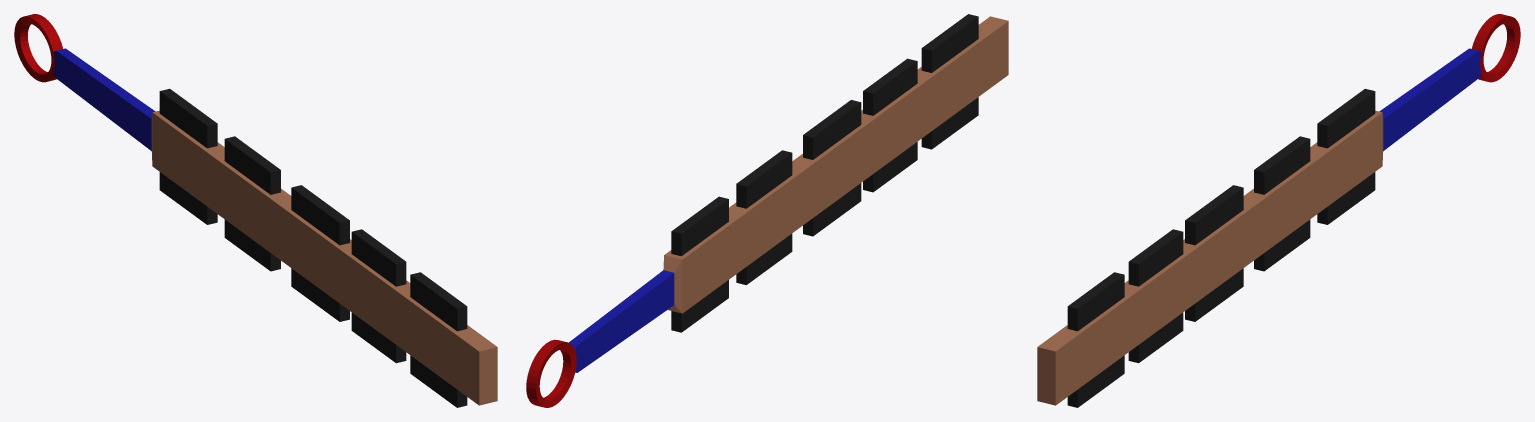
Rendered from arma.fbx.
3 views of the same model, side by side, from view 1: azimuth 30°, elevation 25°; view 2: azimuth 150°, elevation 25°; view 3: azimuth 330°, elevation 25° (orthographic).
Parts seen in each view (by area): view 1: Circle.126; view 2: Circle.126; view 3: Circle.126.
Part boxes in pixels (left/top/right/bottom): Circle.126: left=14, top=14, right=497, bottom=407; Circle.126: left=526, top=14, right=1008, bottom=407; Circle.126: left=1037, top=14, right=1520, bottom=407.
Bounding box in the file's own units: 14.63 × 74.98 × 643.
